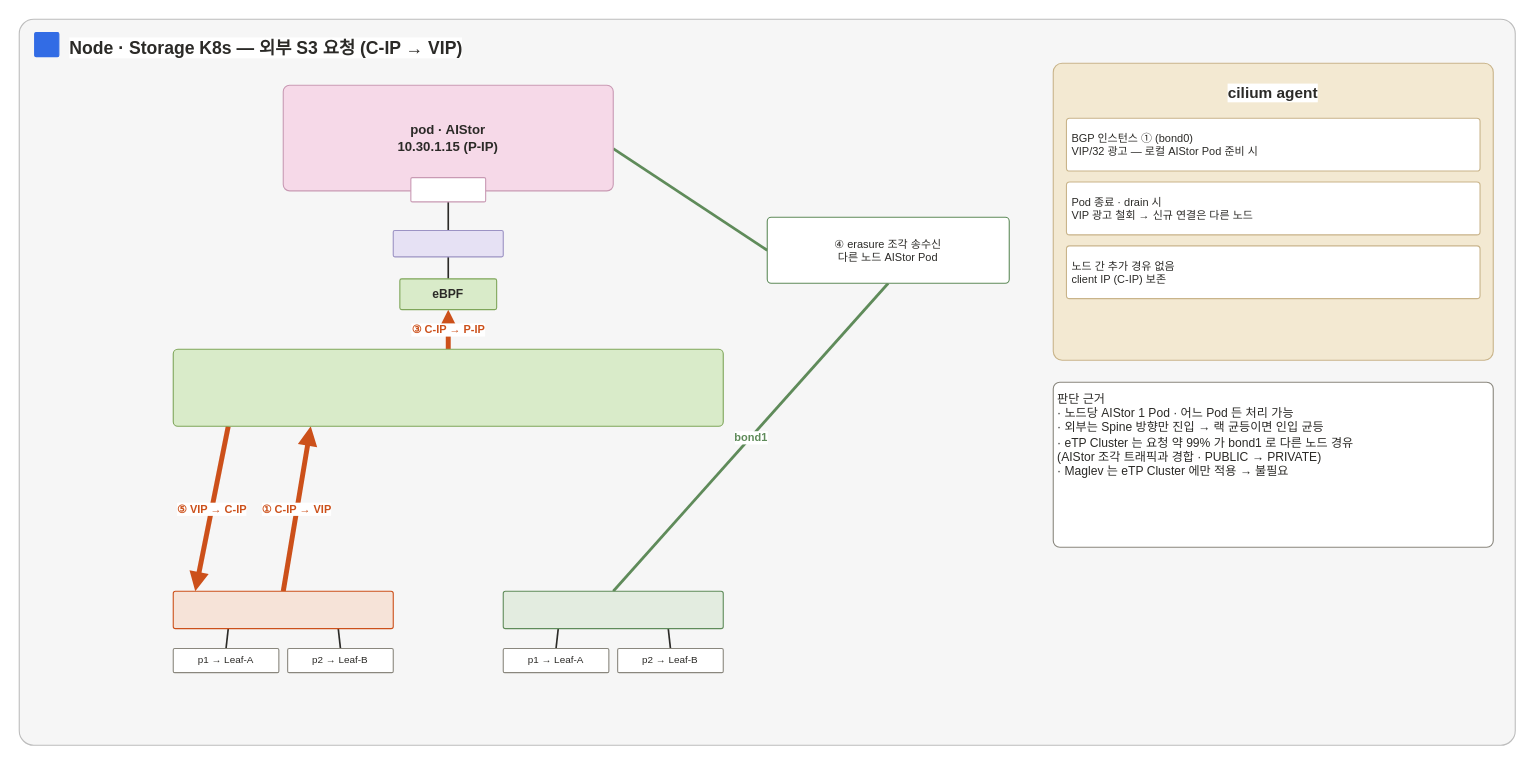
The diagram is 1535 pixels wide and 765 high, and some of its shapes have lost their labels. The shapes that lost their labels are listed below. From the top down, each one's centre as x and y in pixels, then its label:
the point at 448,189: eth0
the point at 447,243: netkit (nk1)
the point at 447,387: eBPF LB (XDP · tc) ② VIP:443 → P-IP (로컬 백엔드만 : eTP Local) ⑤ 응답 src P-IP → VIP 복원
the point at 282,609: bond0 · PUBLIC
the point at 612,609: bond1 · PRIVATE
